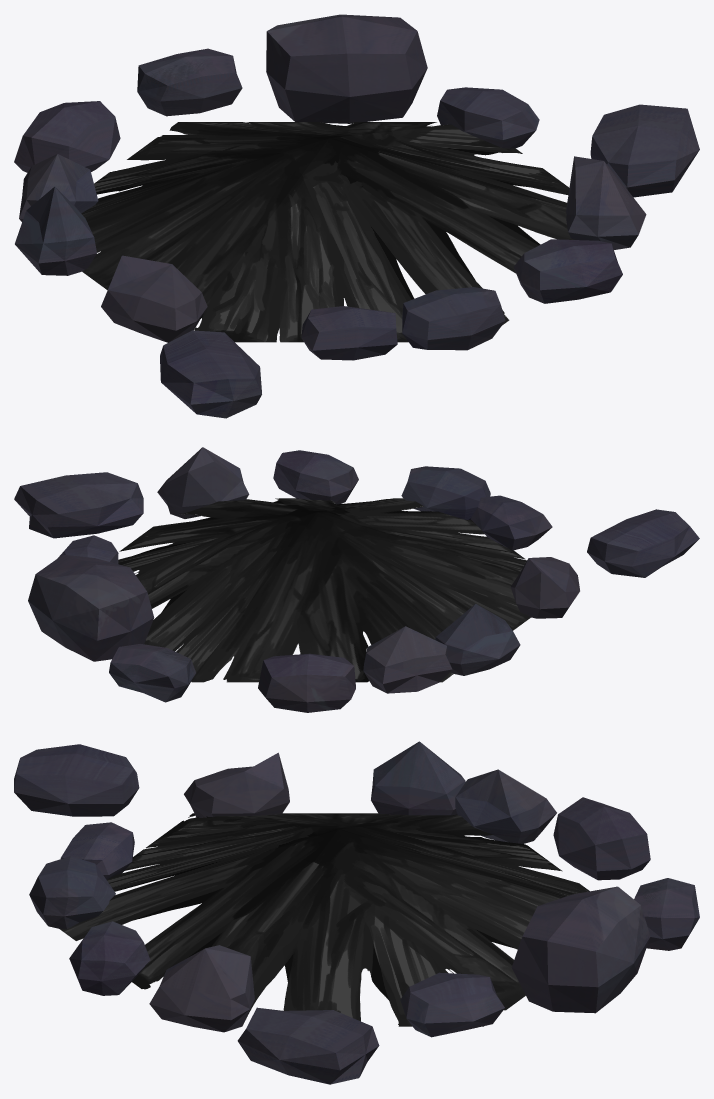
Rendered from Campfire01.fbx.
3 renders of one model, top to bottom at view 1: azimuth 30°, elevation 25°; view 2: azimuth 150°, elevation 25°; view 3: azimuth 270°, elevation 25°, orthographic. The views are drawn at different scales.
Parts seen in each view (by area): view 1: Campfire01; view 2: Campfire01; view 3: Campfire01.
Part boxes in pixels (x1,y1,x2,y2): Campfire01: (14, 14, 699, 418); Campfire01: (14, 447, 699, 712); Campfire01: (14, 741, 699, 1084).
Size of the model in its own units: 1.28 by 0.1739 by 1.19.
2 materials, 2 textured.
